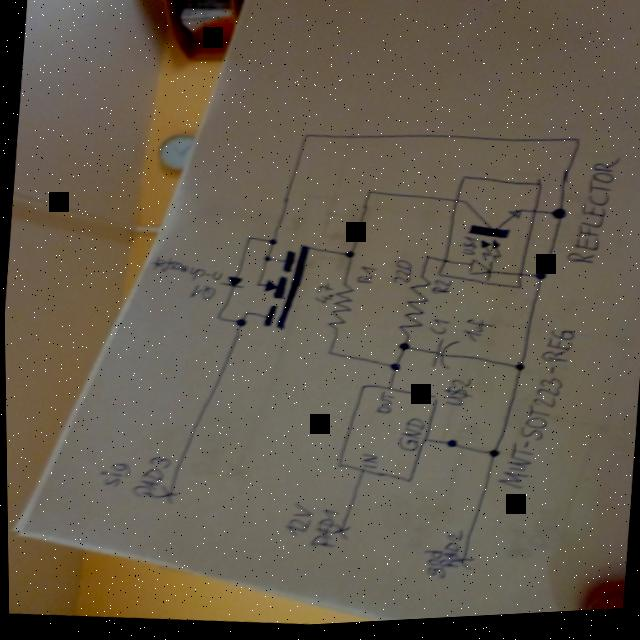capacitor: (426, 340, 459, 377)
diode: (221, 276, 243, 292)
junction: (547, 212, 566, 226), (509, 365, 526, 378), (233, 317, 247, 331), (393, 345, 408, 357), (531, 275, 546, 286), (385, 364, 400, 375), (341, 252, 354, 263), (297, 134, 310, 144), (486, 453, 499, 462), (322, 351, 334, 360), (570, 141, 582, 150), (265, 240, 276, 248), (421, 258, 429, 265), (213, 316, 221, 323), (363, 192, 370, 199), (243, 237, 250, 244)
resistor: (395, 288, 428, 342), (321, 287, 356, 337)
terminal: (150, 484, 178, 508), (448, 554, 474, 578), (331, 526, 349, 546)
text: (491, 328, 577, 501), (562, 161, 620, 274), (145, 253, 223, 287), (128, 453, 173, 503), (306, 510, 338, 554), (394, 418, 424, 458), (280, 504, 311, 541), (435, 532, 461, 575), (439, 380, 472, 413), (94, 461, 129, 491), (416, 550, 446, 585), (459, 319, 493, 349), (181, 284, 215, 304), (389, 262, 413, 289), (311, 284, 335, 309), (352, 268, 376, 291), (425, 320, 449, 342), (371, 397, 393, 420), (355, 456, 378, 475), (459, 241, 477, 262), (429, 283, 451, 300)
transistor: (235, 239, 312, 338)
